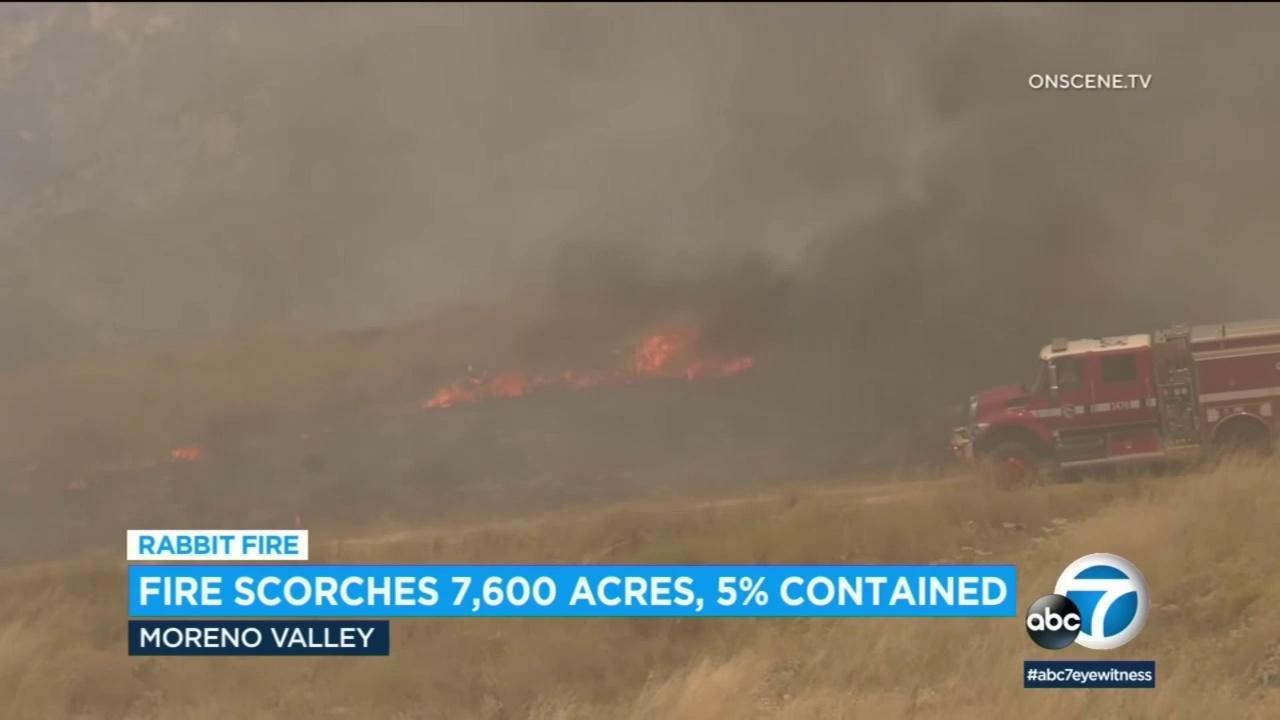fire: (561, 319, 755, 389), (420, 364, 528, 410), (169, 446, 202, 464)
smoke: (0, 2, 1280, 548)
